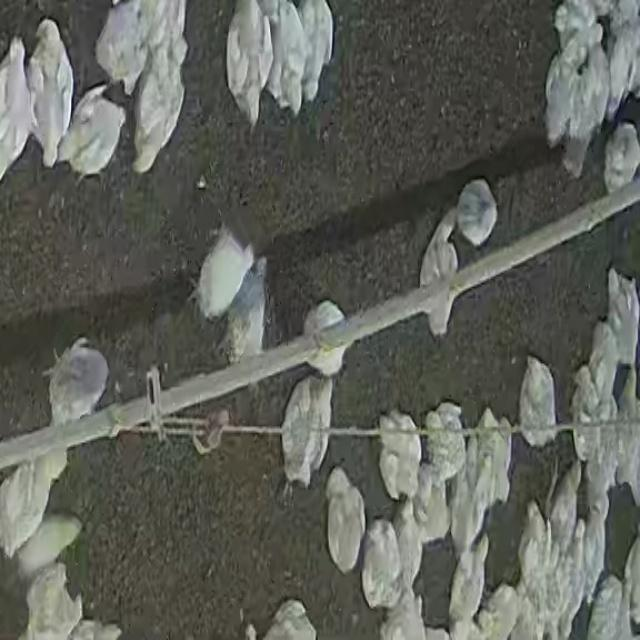chicken: (131, 52, 186, 176), (28, 20, 73, 168), (2, 455, 67, 557), (192, 223, 257, 323), (55, 91, 127, 180), (42, 339, 110, 427), (216, 257, 268, 364), (281, 380, 333, 483), (228, 1, 270, 128), (568, 47, 609, 174), (266, 0, 310, 115), (0, 36, 36, 176), (15, 509, 86, 576), (321, 464, 365, 571), (601, 2, 640, 120), (24, 562, 84, 638), (418, 228, 458, 342), (94, 2, 142, 90), (542, 36, 580, 146), (455, 456, 498, 552), (445, 536, 492, 622), (357, 522, 403, 607), (517, 357, 558, 452), (297, 0, 335, 100), (303, 301, 350, 379), (426, 397, 469, 480), (605, 275, 639, 379), (614, 372, 640, 504), (381, 414, 420, 500), (477, 411, 511, 505), (455, 178, 499, 248), (146, 0, 193, 61), (603, 121, 640, 196), (398, 503, 423, 592), (587, 318, 615, 396), (376, 599, 427, 640), (166, 29, 188, 96)
